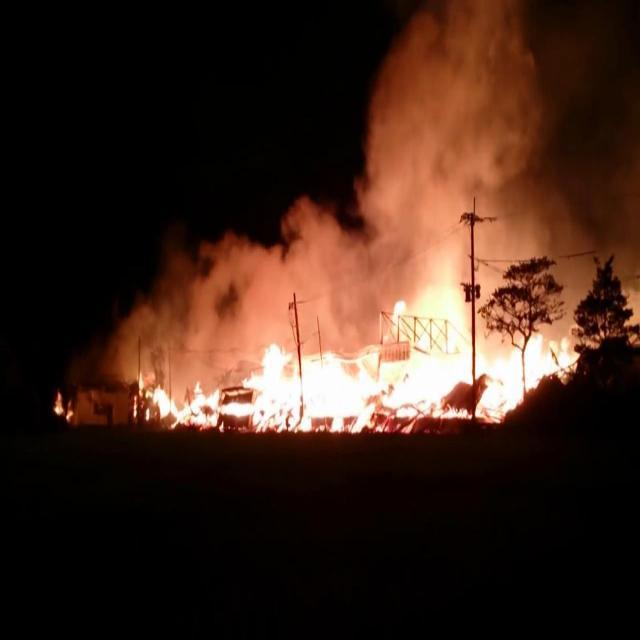Fire: (272, 358, 534, 441)
Smoke: (386, 74, 509, 310), (162, 244, 278, 344), (293, 225, 381, 338)
